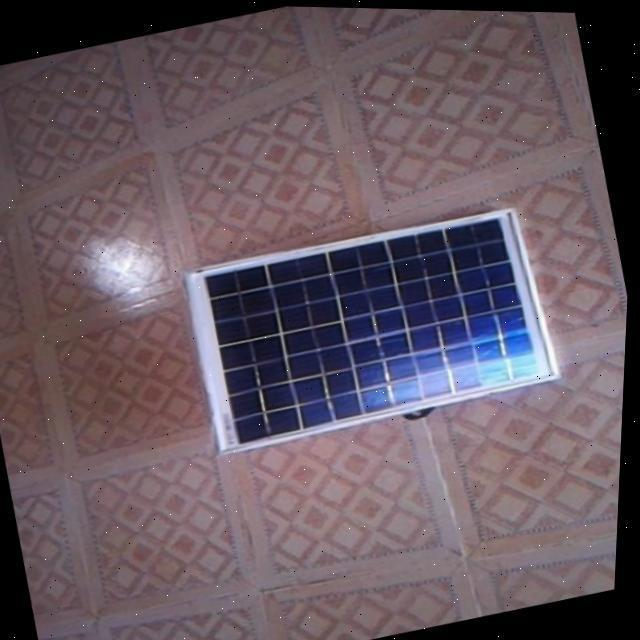Normal Solar Panel: (178, 192, 568, 459)
